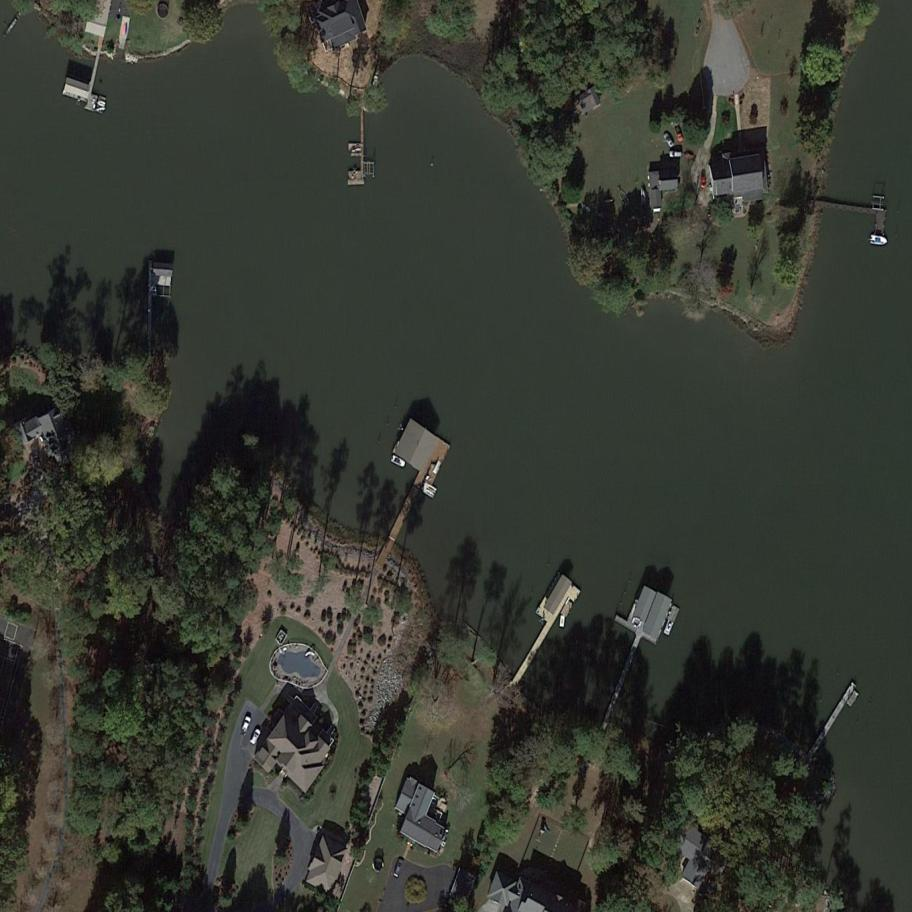ship: (868, 233, 891, 248), (662, 619, 675, 637), (559, 615, 565, 628)
small-vehicle: (235, 715, 253, 738), (659, 130, 677, 152), (388, 454, 408, 470), (247, 727, 263, 747), (391, 858, 405, 880), (674, 126, 685, 143), (670, 151, 683, 160), (701, 174, 707, 189)
